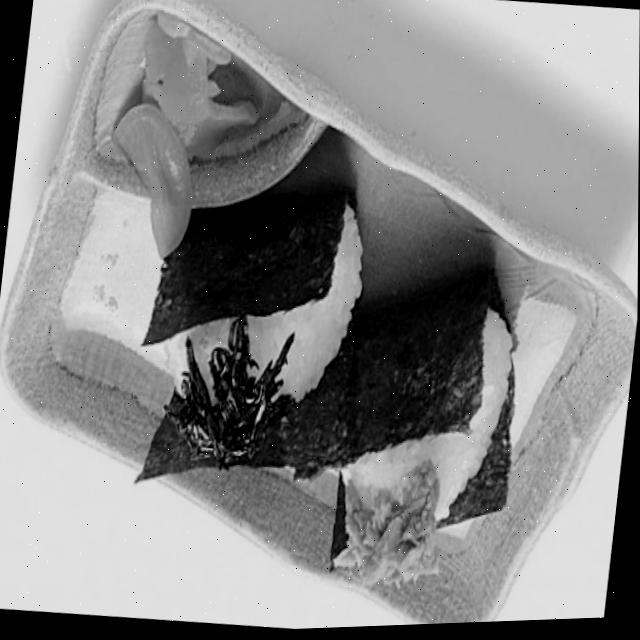米饭主食: (291, 283, 539, 620), (120, 177, 376, 502)
